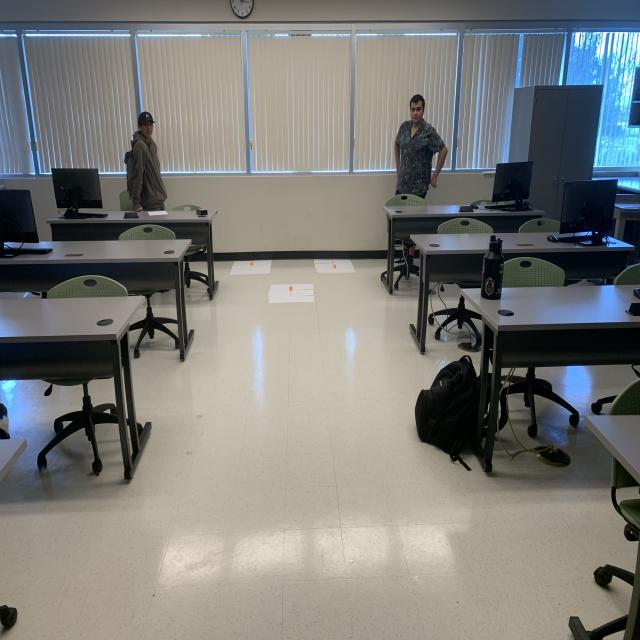ping-pong-ball: (250, 260, 253, 266), (289, 286, 293, 290), (333, 264, 336, 269)
